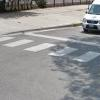Crosswalk: (7, 28, 93, 67)
